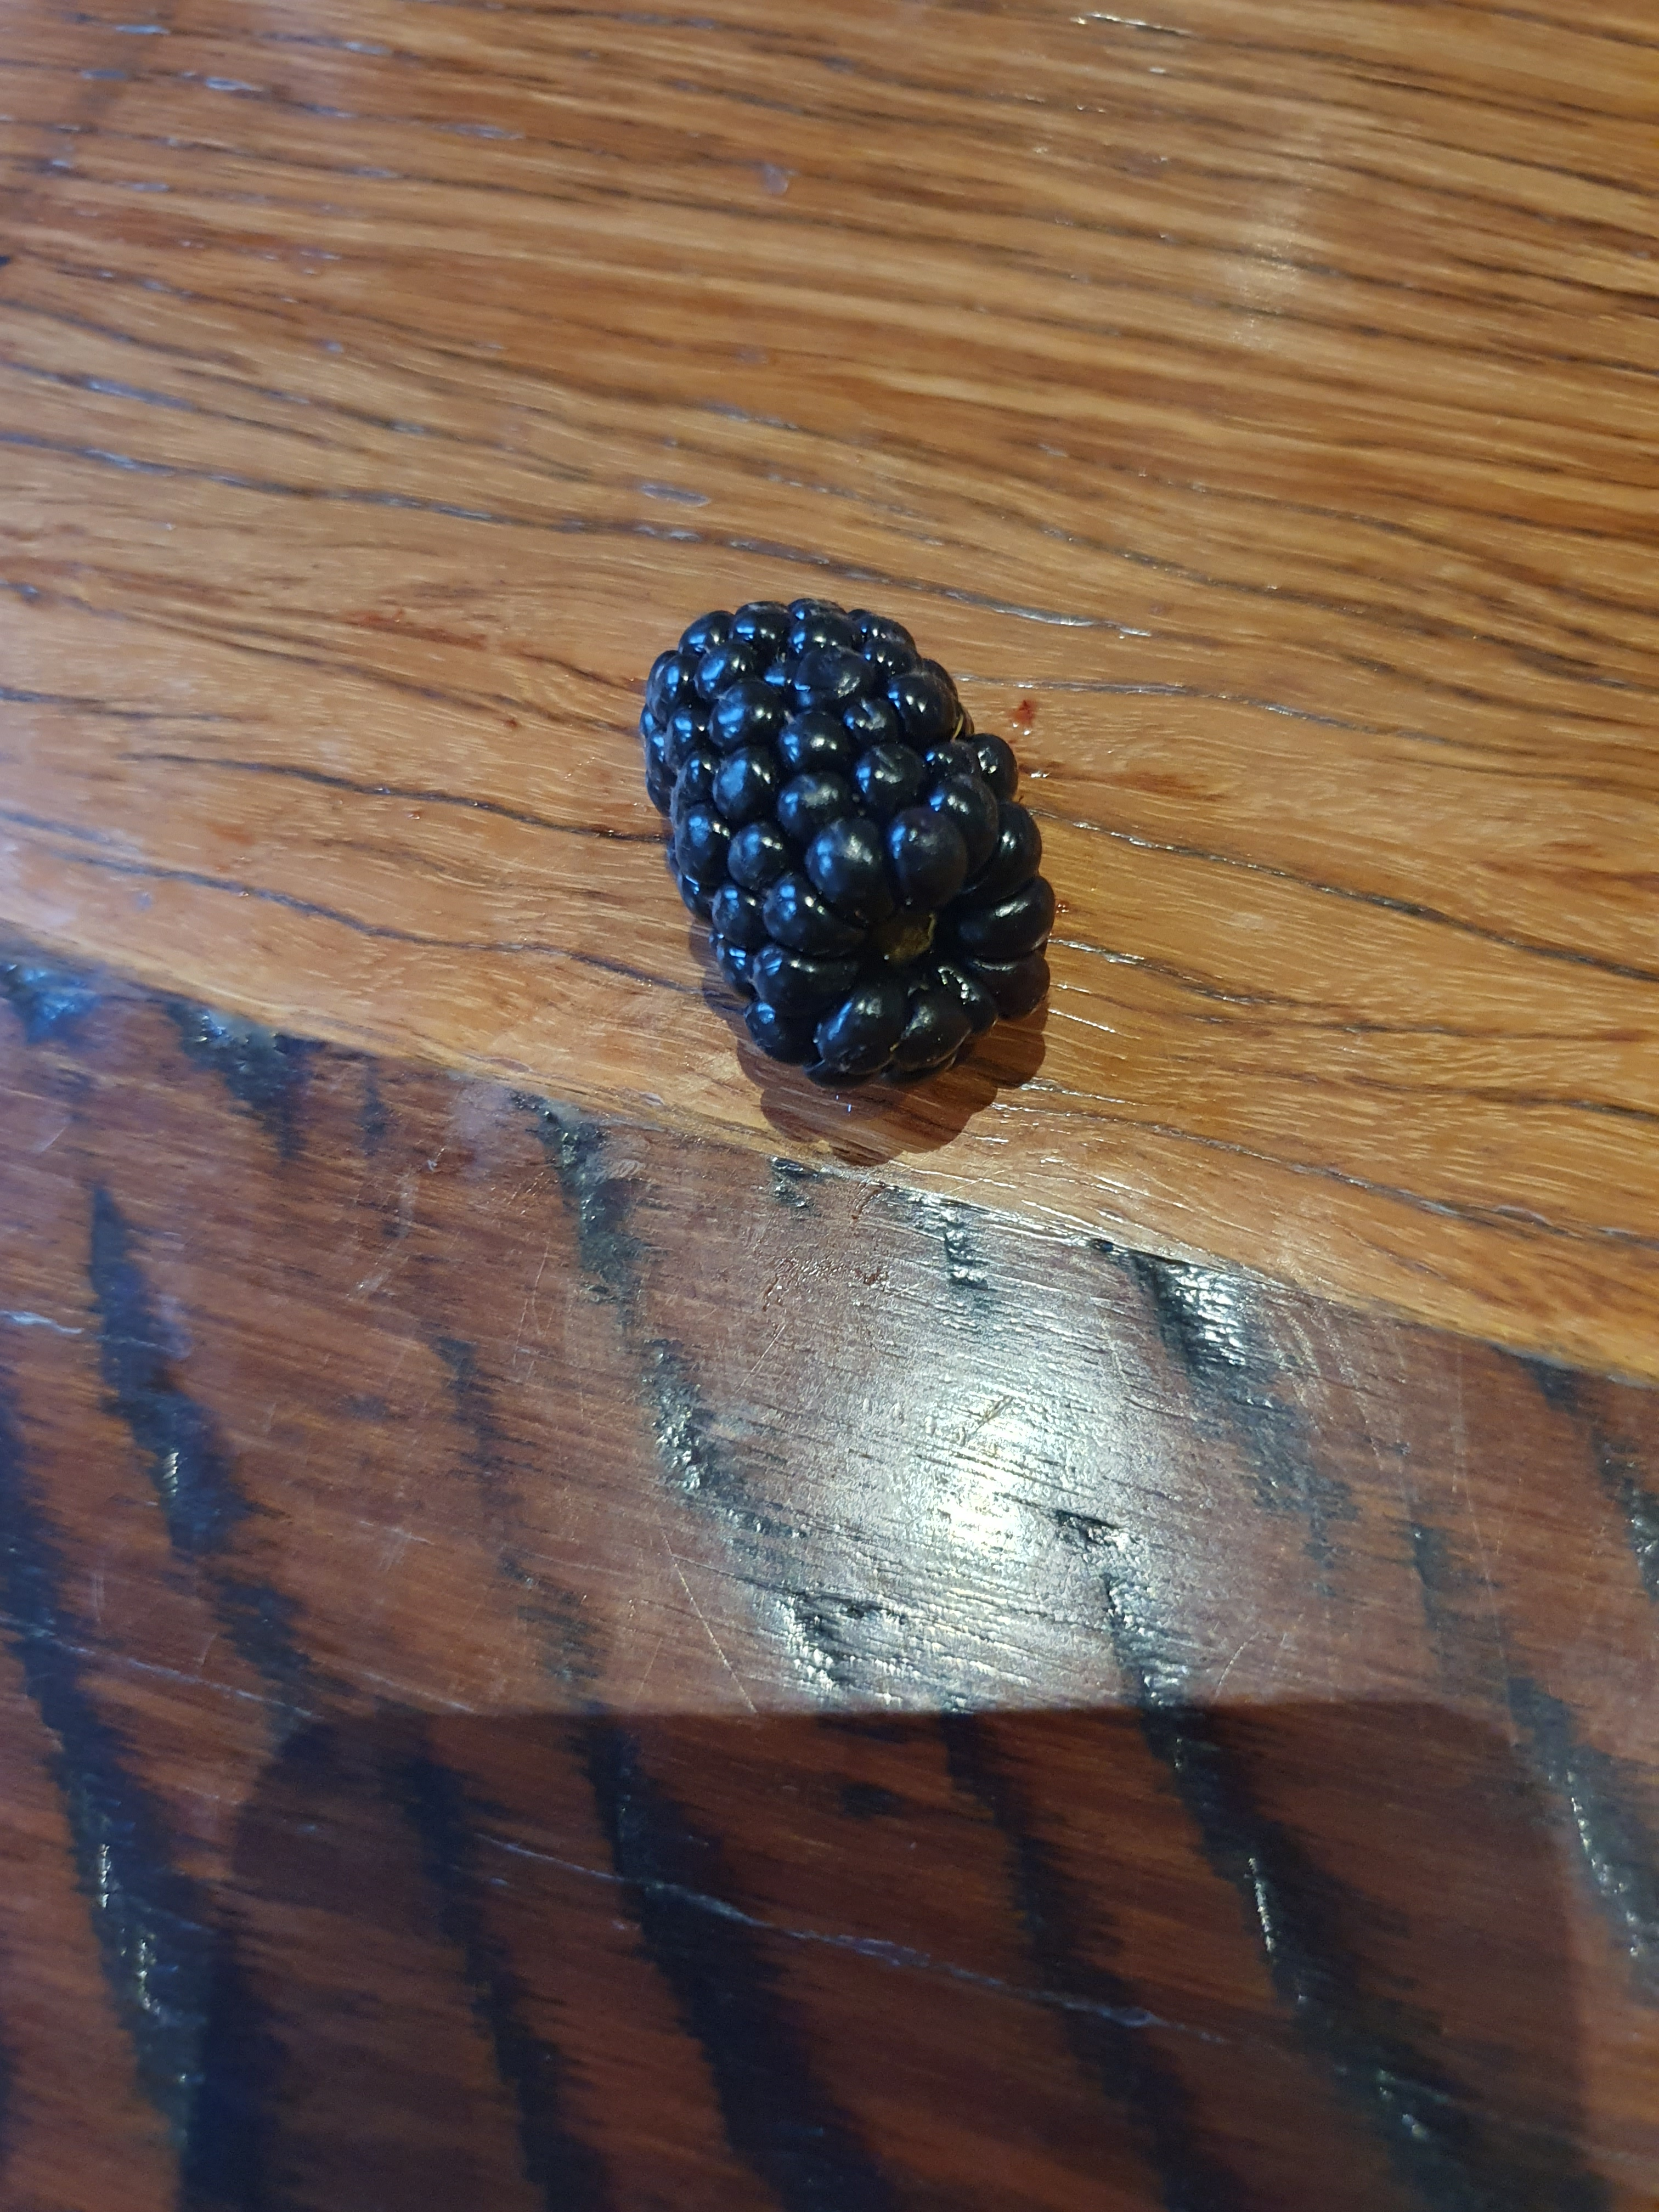blackberry: (606, 550, 1075, 1115)
